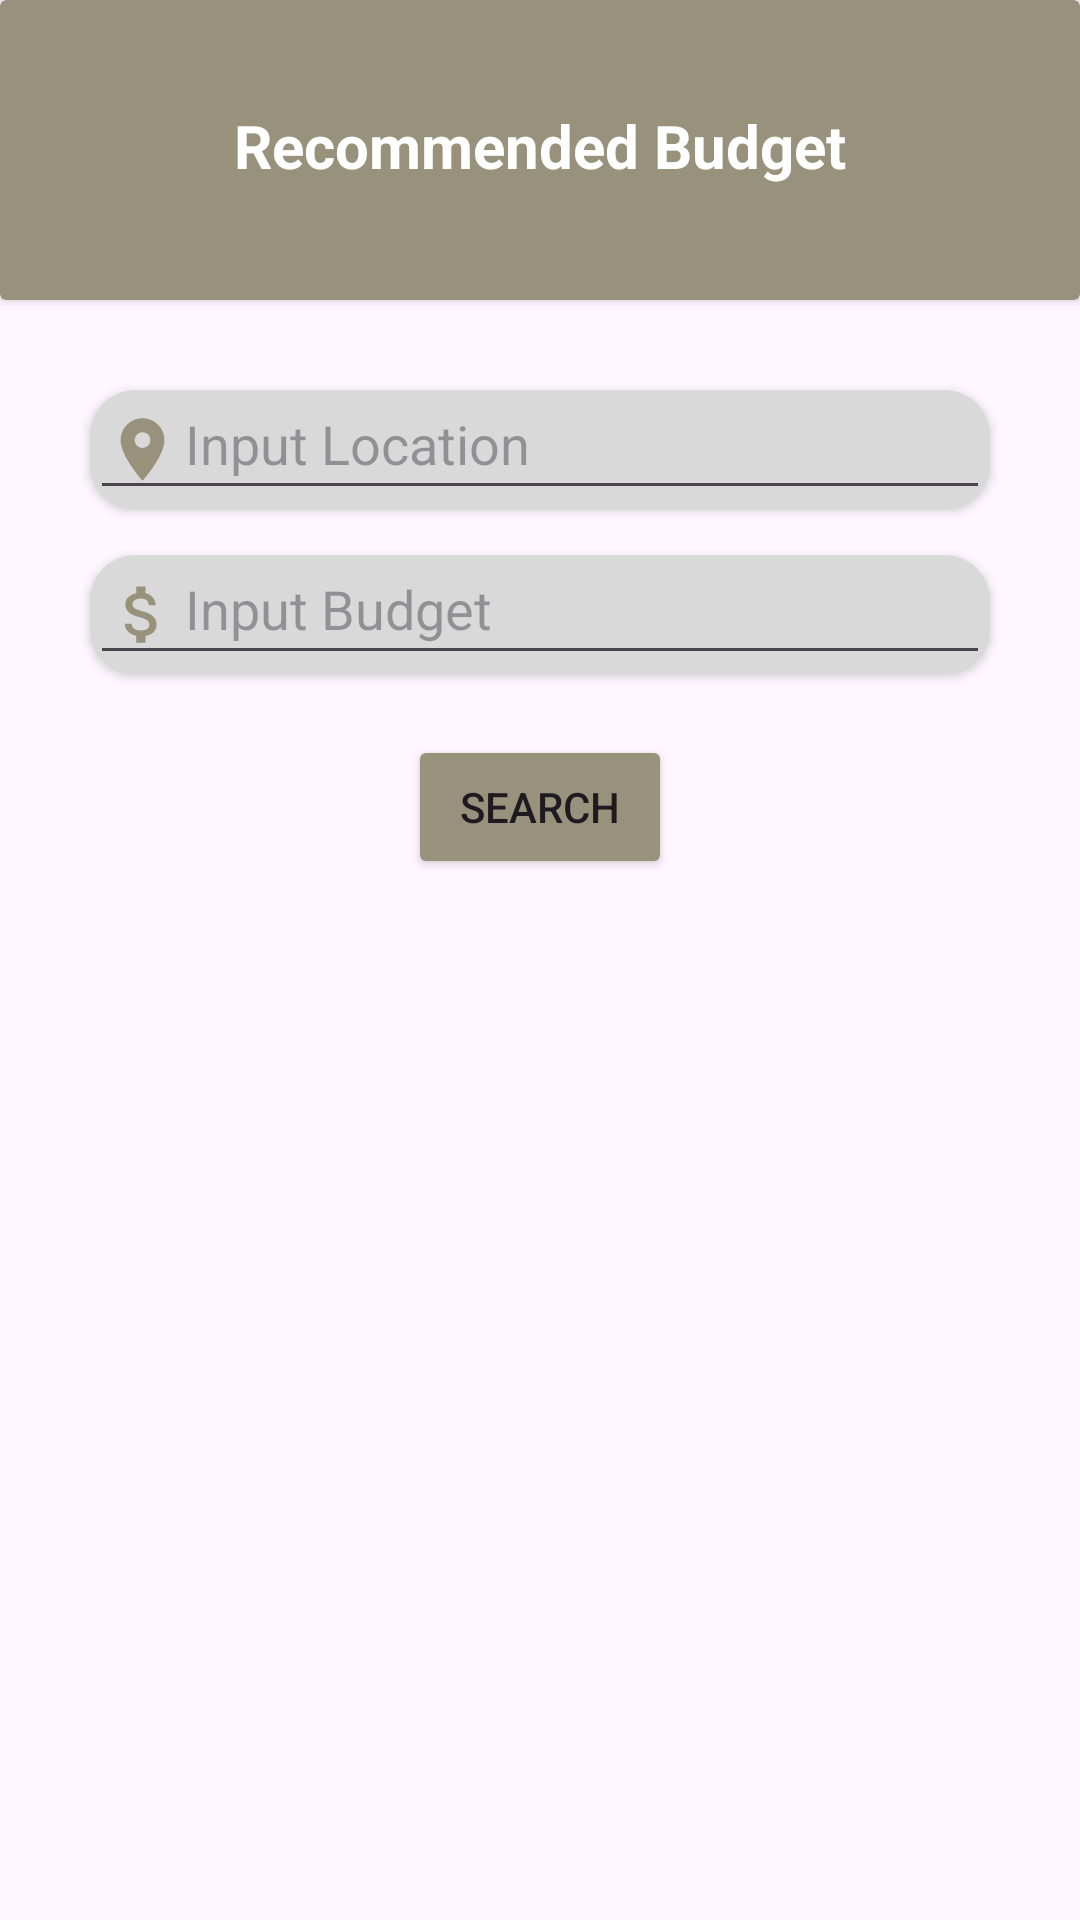

Where icons sit on this 1080px×1920px app screen, as box(x1, y1, x2, y2):
attach money: box(125, 586, 157, 643)
location on: box(120, 418, 164, 481)
